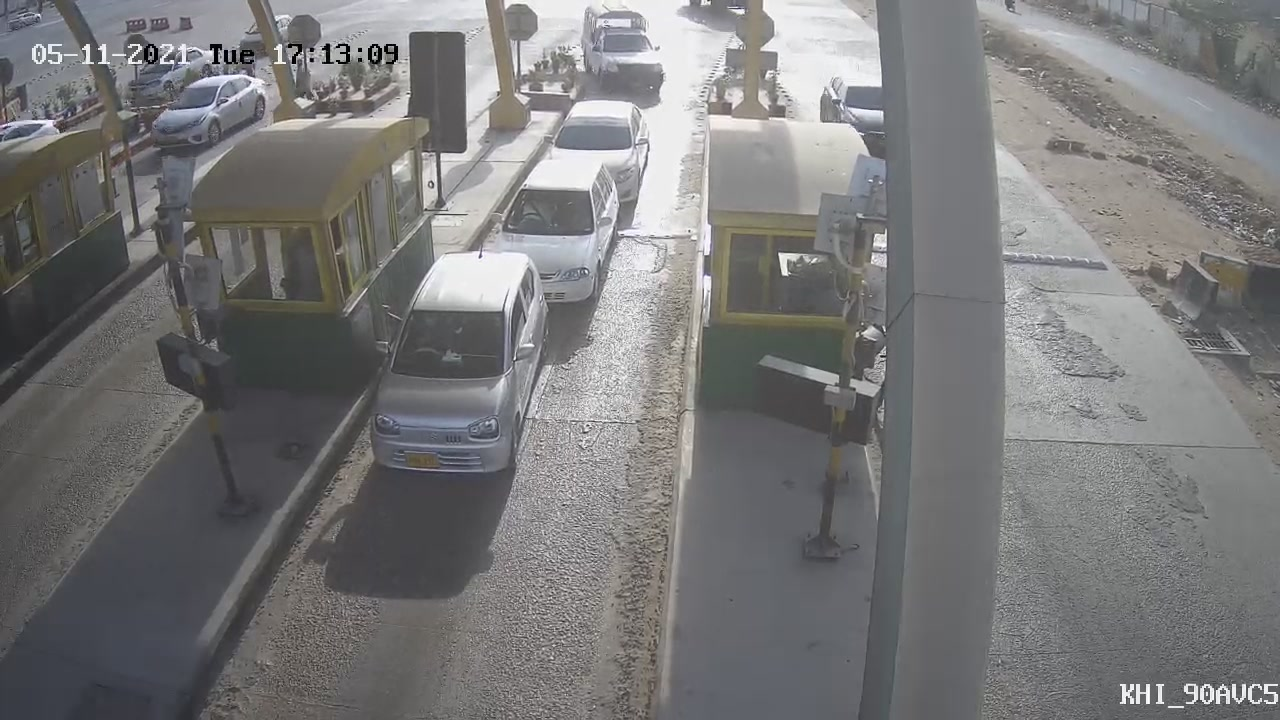F1: (348, 231, 570, 495), (473, 147, 633, 326)
